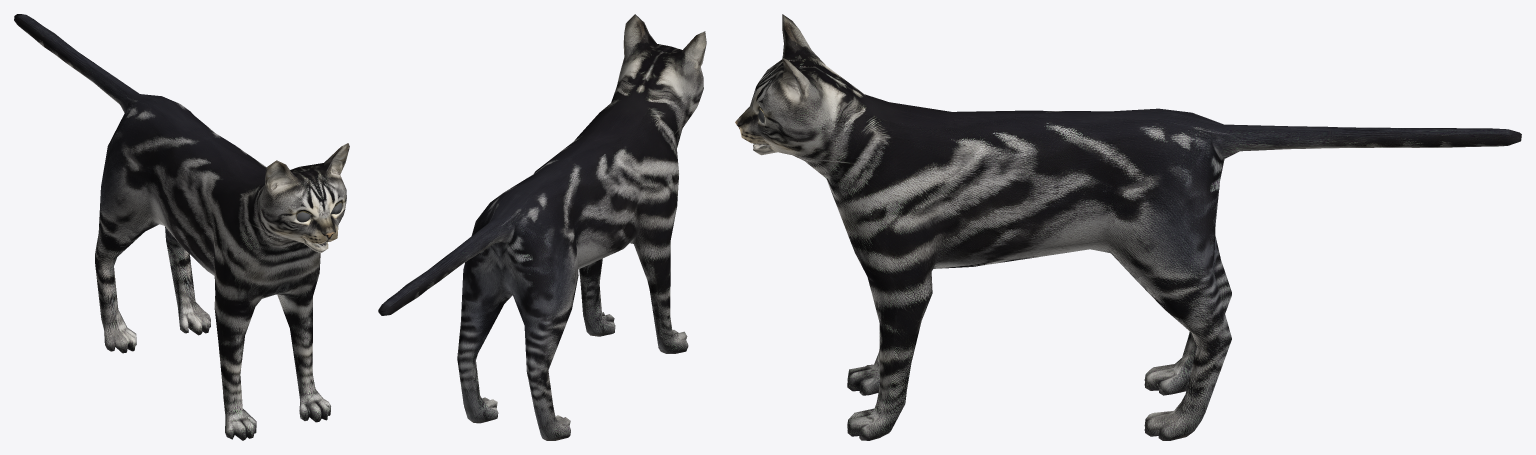
3 views of the same model, side by side, from view 1: azimuth 30°, elevation 25°; view 2: azimuth 150°, elevation 25°; view 3: azimuth 270°, elevation 25° (orthographic). The views are drawn at different scales.
Visible parts, largest first — view 1: Mesh_0; view 2: Mesh_0; view 3: Mesh_0.
Boxes of the visible parts, <box> form: Mesh_0: <box>14,14,349,440</box>; Mesh_0: <box>378,14,706,440</box>; Mesh_0: <box>735,14,1521,440</box>.
Bounding box in the file's own units: 39.05 × 105 × 200.
Materials: 1 (1 with a texture image).
